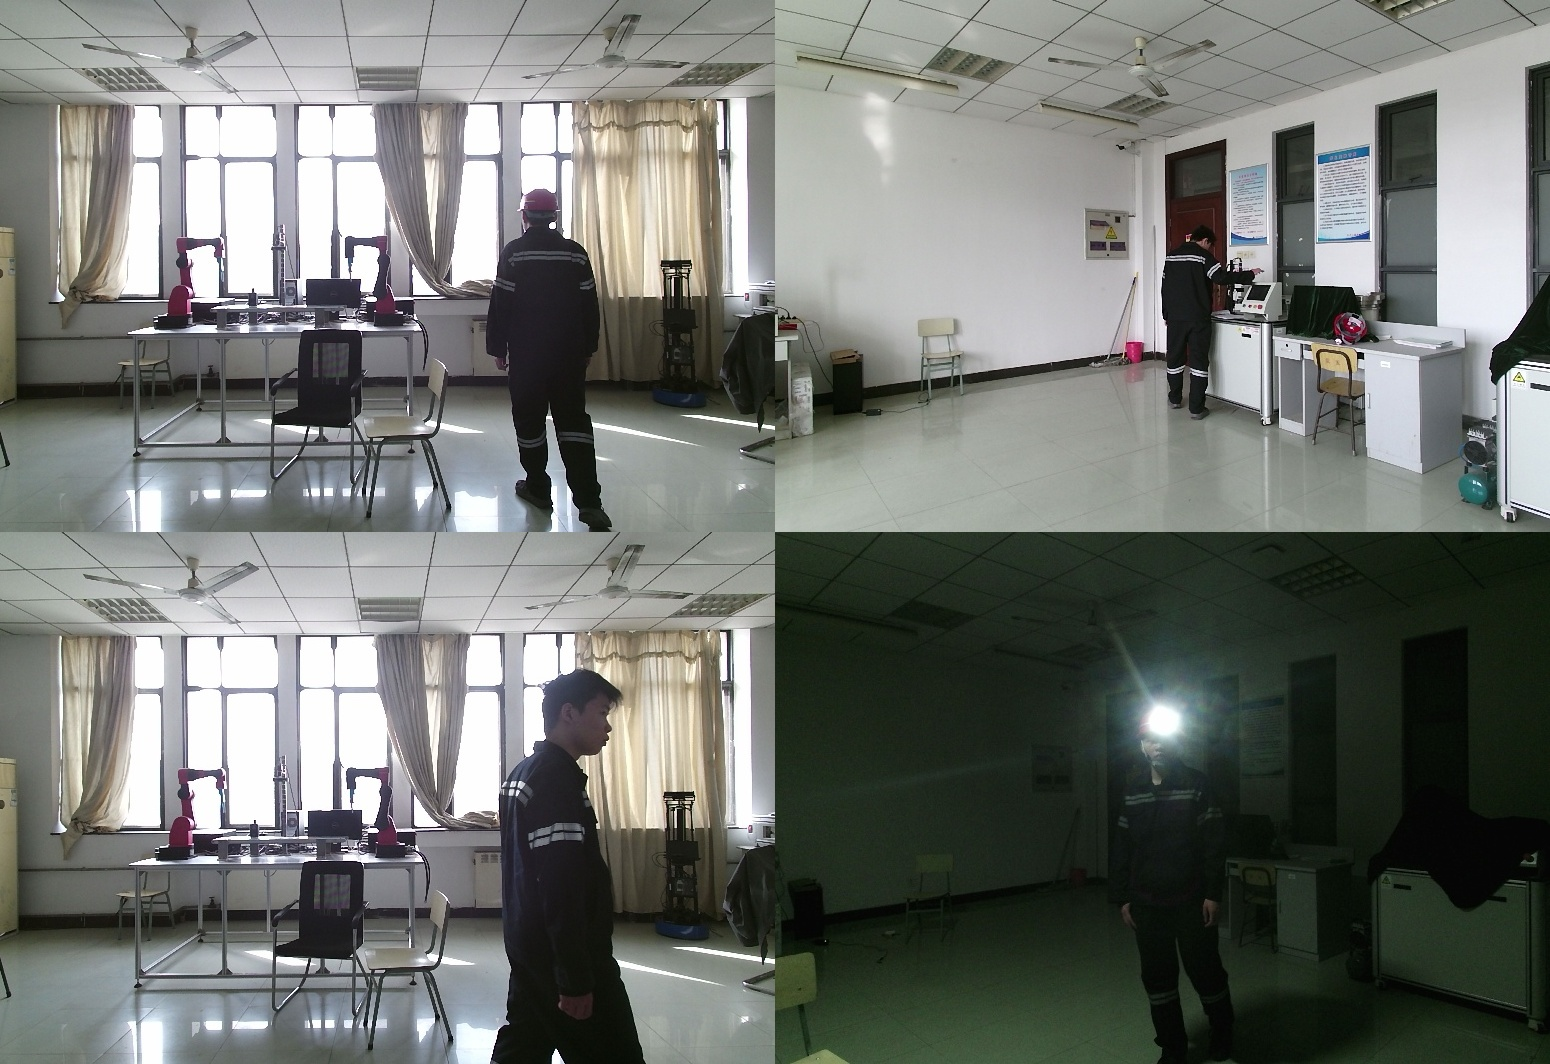person: (496, 674, 657, 1064), (1116, 707, 1246, 1064), (489, 188, 618, 532), (1161, 231, 1275, 420)
